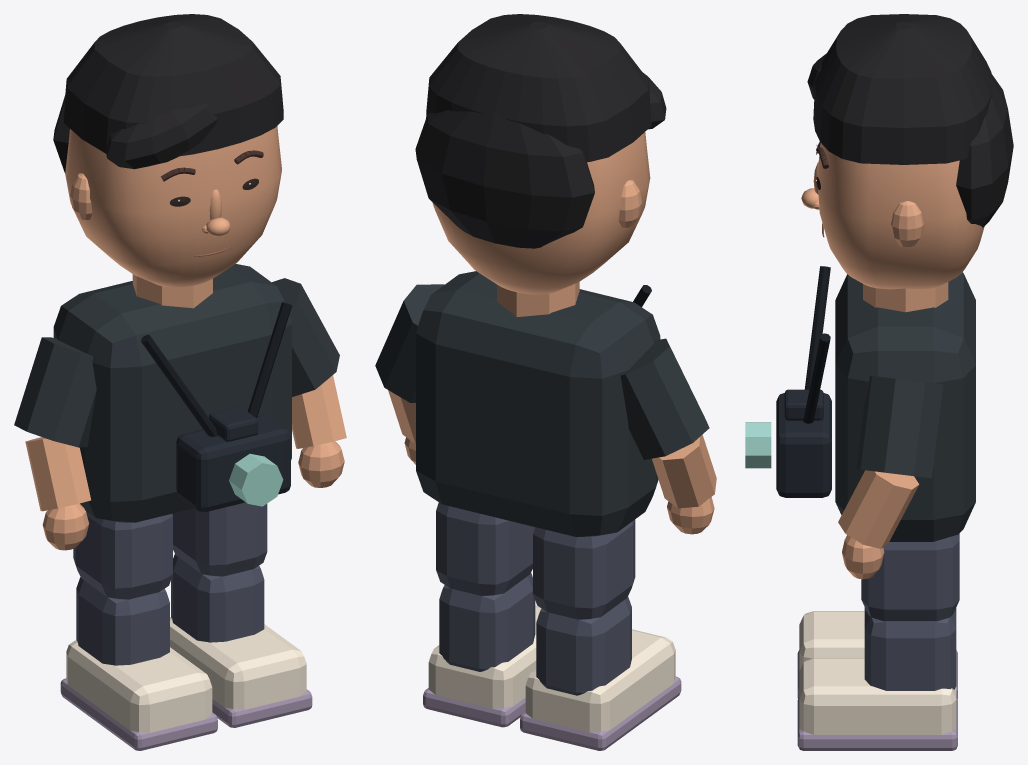
Rendered from sam-avatar.glb.
The picture shows the model from 3 angles, left to right: view 1: azimuth 30°, elevation 25°; view 2: azimuth 150°, elevation 25°; view 3: azimuth 270°, elevation 25°; orthographic projection. The views are drawn at different scales.
Visible parts, largest first — view 1: HeadMesh, BodyMesh, KneeLMesh, KneeRMesh, LegLMesh, ArmLMesh, LegRMesh, ArmRMesh, ElbowLMesh, ElbowRMesh, HandRMesh, HandLMesh; view 2: HeadMesh, BodyMesh, KneeLMesh, KneeRMesh, LegLMesh, LegRMesh, ArmLMesh, ArmRMesh, ElbowLMesh, HandLMesh, ElbowRMesh; view 3: HeadMesh, BodyMesh, KneeRMesh, ArmRMesh, LegRMesh, ElbowRMesh, KneeLMesh, HandRMesh.
Part boxes in pixels (box(x1,y1,x2,y2)): HeadMesh: box(53, 14, 283, 287); BodyMesh: box(53, 264, 292, 522); KneeLMesh: box(60, 577, 217, 750); KneeRMesh: box(170, 554, 312, 727); LegLMesh: box(73, 511, 172, 599); ArmLMesh: box(14, 337, 96, 447); LegRMesh: box(172, 502, 267, 576); ArmRMesh: box(272, 278, 339, 396); ElbowLMesh: box(25, 437, 90, 511); ElbowRMesh: box(292, 375, 346, 448); HandRMesh: box(298, 441, 344, 487); HandLMesh: box(42, 503, 88, 550); HeadMesh: box(415, 14, 666, 294); BodyMesh: box(416, 271, 660, 536); KneeLMesh: box(520, 597, 681, 750); KneeRMesh: box(423, 573, 541, 727); LegLMesh: box(533, 519, 635, 619); LegRMesh: box(436, 502, 534, 595); ArmLMesh: box(620, 338, 709, 459); ArmRMesh: box(375, 284, 444, 402); ElbowLMesh: box(652, 435, 716, 508); HandLMesh: box(667, 497, 714, 534); ElbowRMesh: box(388, 390, 415, 444); HeadMesh: box(801, 14, 1013, 289); BodyMesh: box(745, 266, 975, 541); KneeRMesh: box(797, 611, 957, 750); ArmRMesh: box(856, 375, 943, 478); LegRMesh: box(861, 533, 959, 621); ElbowRMesh: box(838, 470, 919, 548); KneeLMesh: box(797, 607, 957, 698); HandRMesh: box(842, 535, 884, 579).
Bounding box in the file's own units: 1.13 × 2.3 × 0.82.
